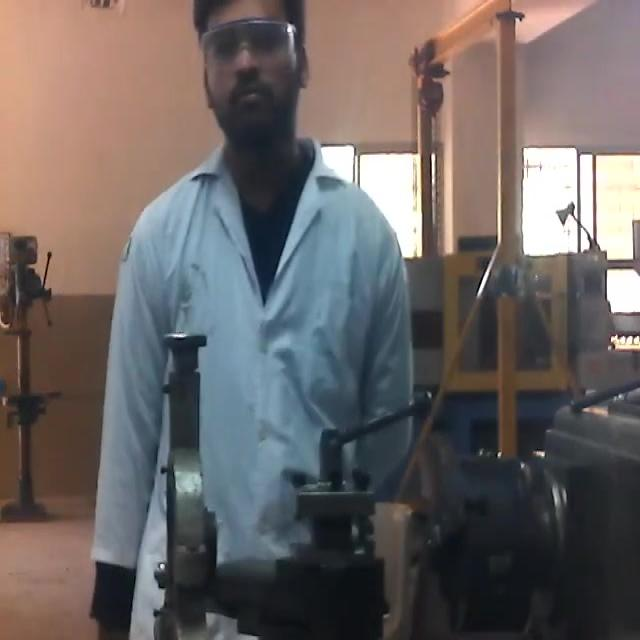googles: (195, 17, 303, 78)
labcoat: (88, 124, 418, 640)
